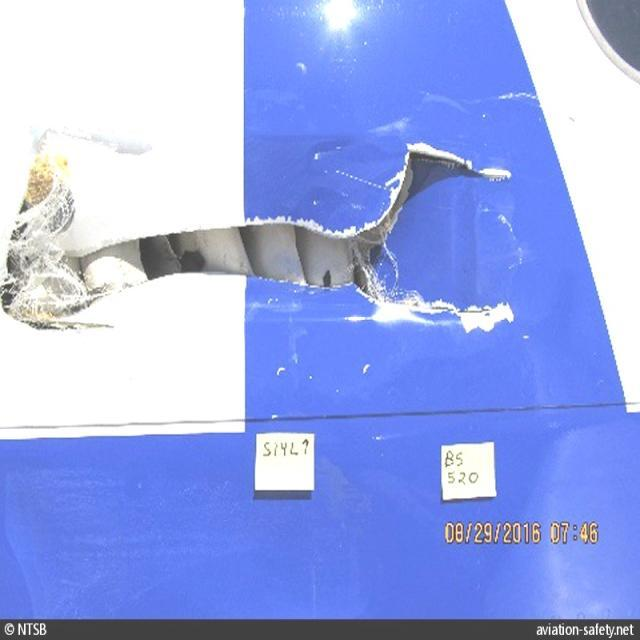crack: (400, 286, 536, 349)
